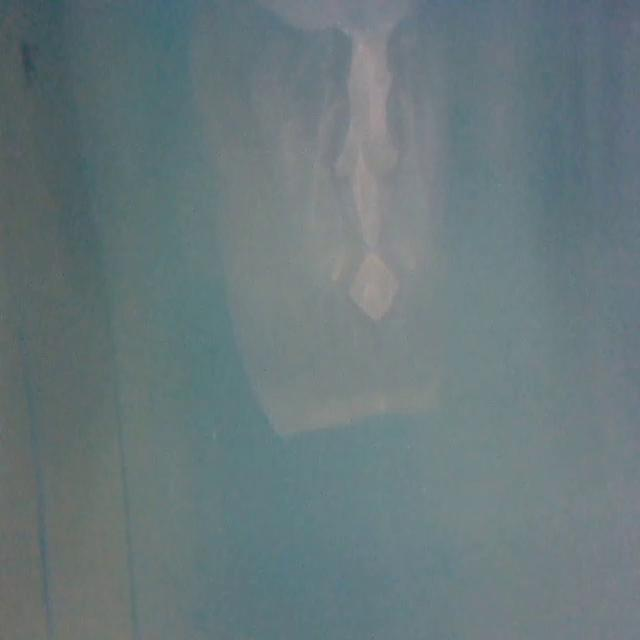plastic bags: (203, 2, 475, 445)
